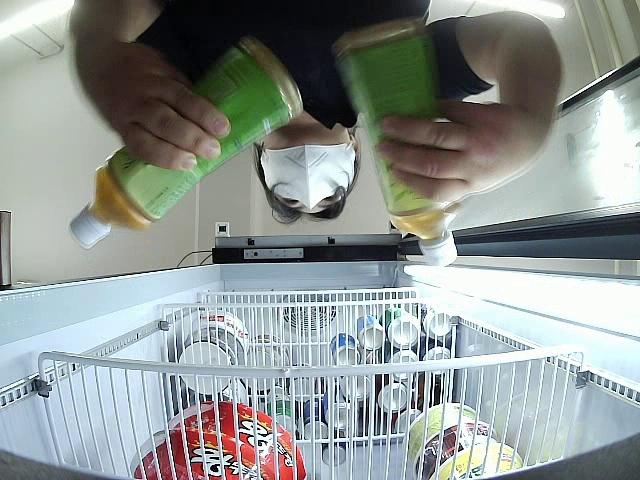00_hand: (86, 43, 234, 173), (373, 94, 533, 209)
19_17cha: (67, 39, 300, 247), (334, 16, 464, 267)
